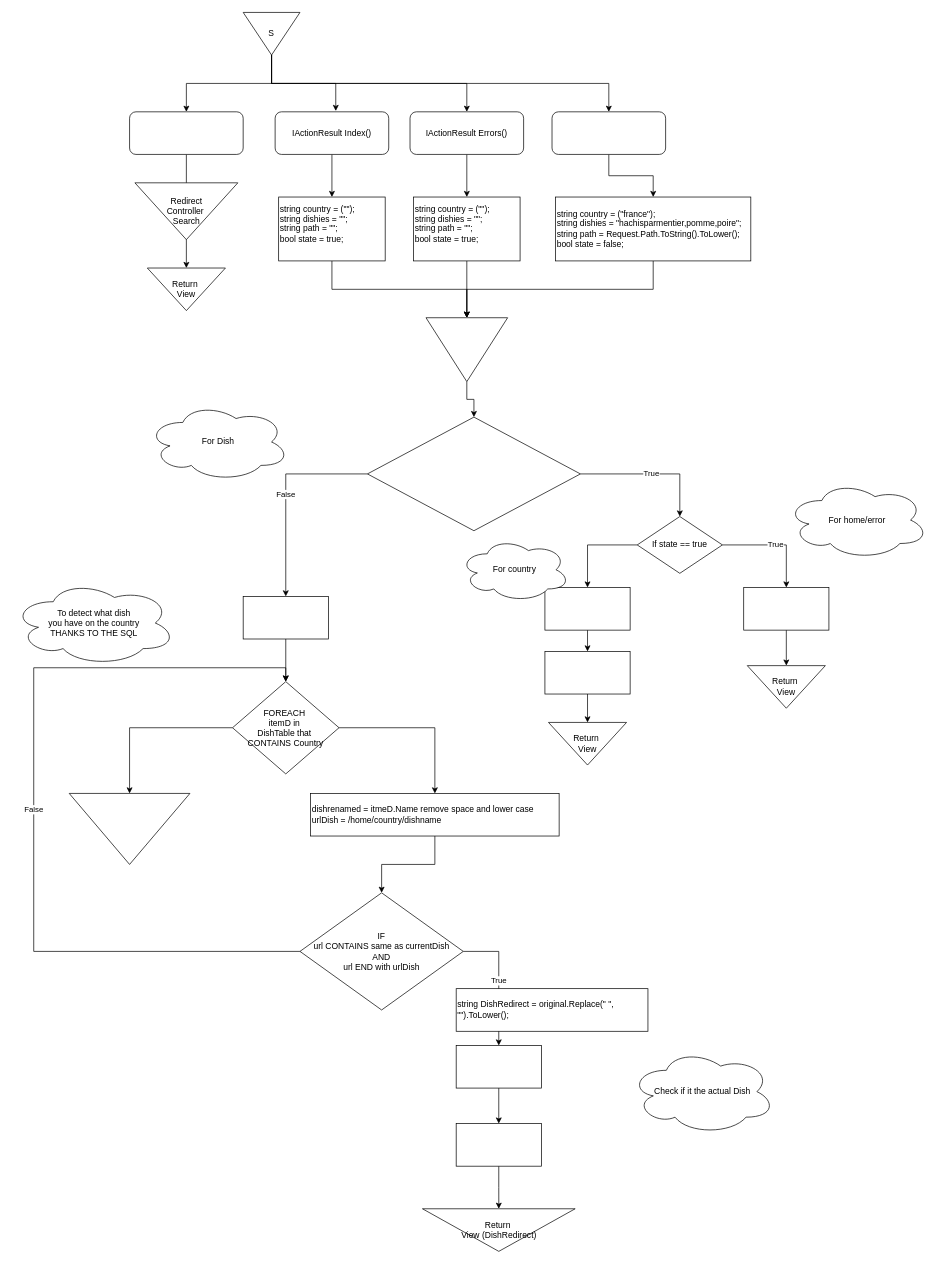
This 941x1264 diagram has some shape labels left out. The box of each missing label's shape, as (x1, y1, x2, y2) in pixels:
capatalizeCountry (just the first letter): (544, 587, 630, 630)
checkUrl: (425, 317, 508, 382)
currentDish = uncapatlaziz and remove space: (455, 1045, 541, 1088)
dishArray = "": (242, 596, 328, 639)
IActionResult France(): (551, 111, 666, 154)
IActionResult Search(): (129, 111, 243, 154)
IF url end by Country OR url end by Country/ OR state == true: (367, 416, 580, 531)
Return View ERROR 404: (69, 793, 190, 864)
Take All from - CountryTable - DishiesTable: (743, 587, 829, 630)
Takes where capatalizeCountry - CountryTable - DishiesTable: (544, 651, 630, 694)
Takes where Currentdish - DishiesTable: (455, 1123, 541, 1166)
